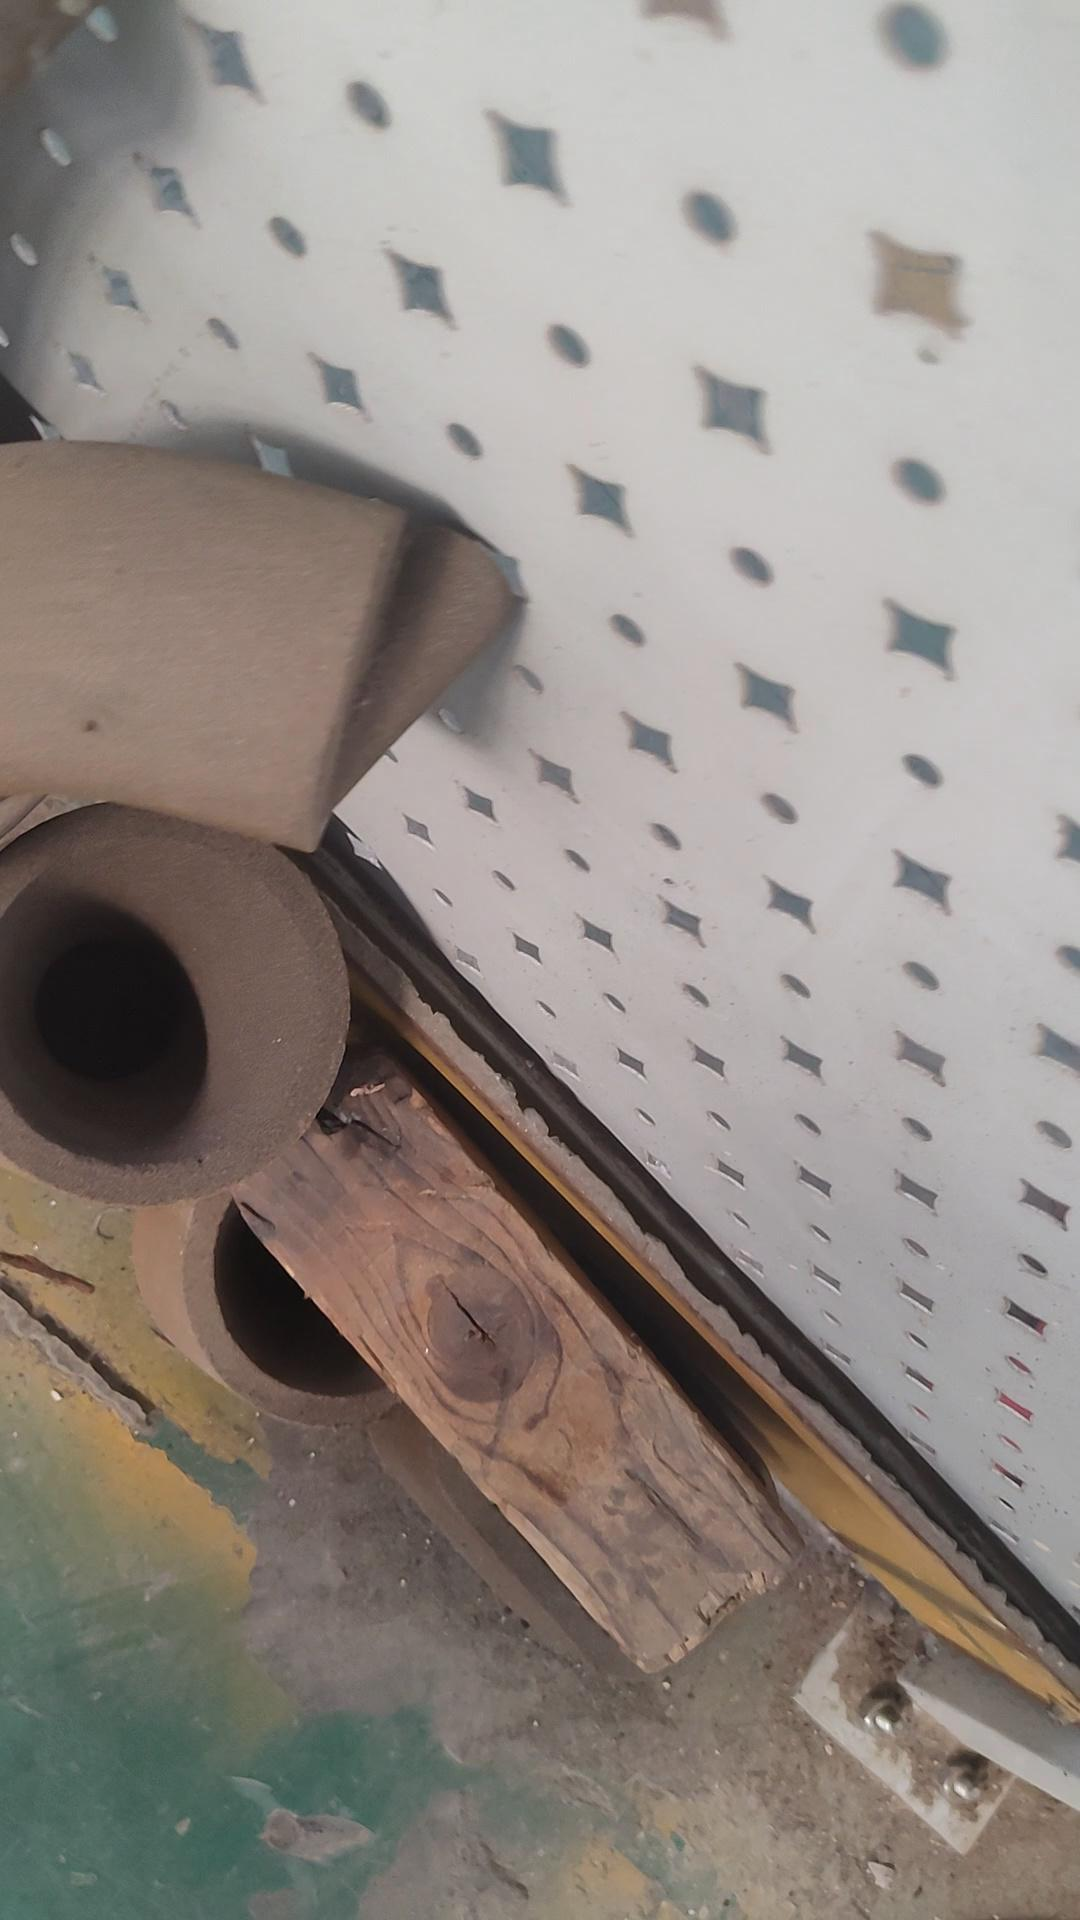pouring hole: (1, 829, 313, 1166), (212, 1149, 458, 1400)
